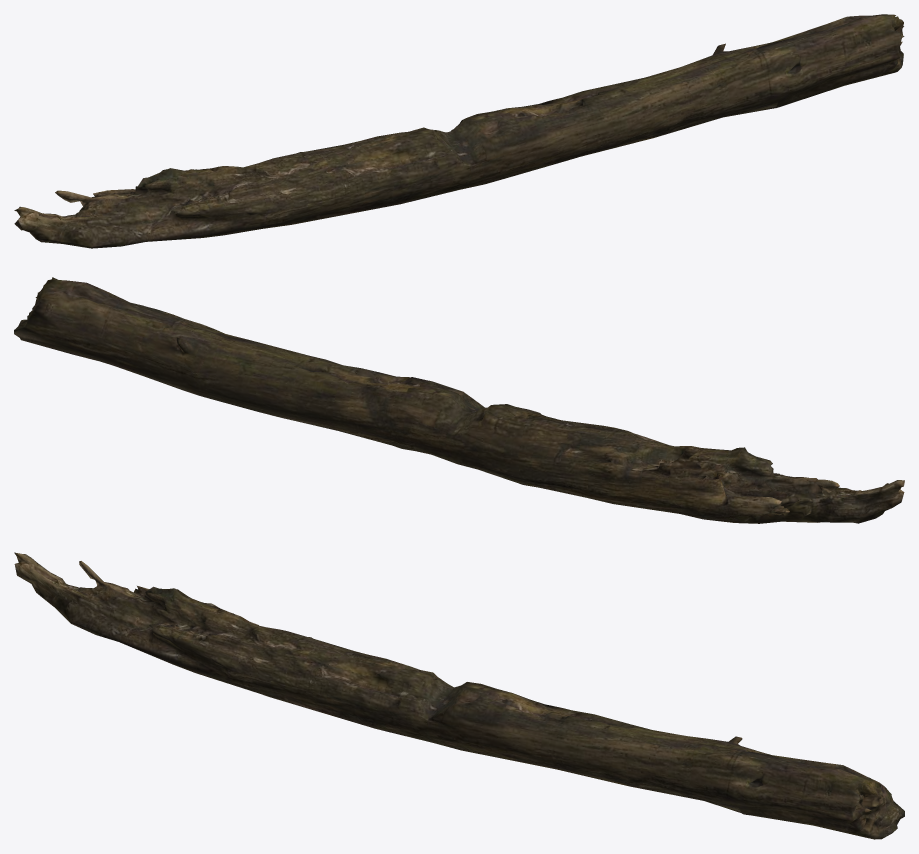
File: dead-tree-trunk.glb
3 renders of one model, top to bottom at view 1: azimuth 30°, elevation 25°; view 2: azimuth 150°, elevation 25°; view 3: azimuth 330°, elevation 25°, orthographic.
Visible parts, largest first — view 1: dead_tree_trunk; view 2: dead_tree_trunk; view 3: dead_tree_trunk.
Part boxes in pixels (bbox=[...]): dead_tree_trunk: bbox=[14, 14, 904, 248]; dead_tree_trunk: bbox=[14, 277, 904, 523]; dead_tree_trunk: bbox=[14, 552, 904, 839].
Bounding box in the file's own units: 3.05 × 0.2869 × 0.2763.
Materials: 1 (1 with a texture image).
